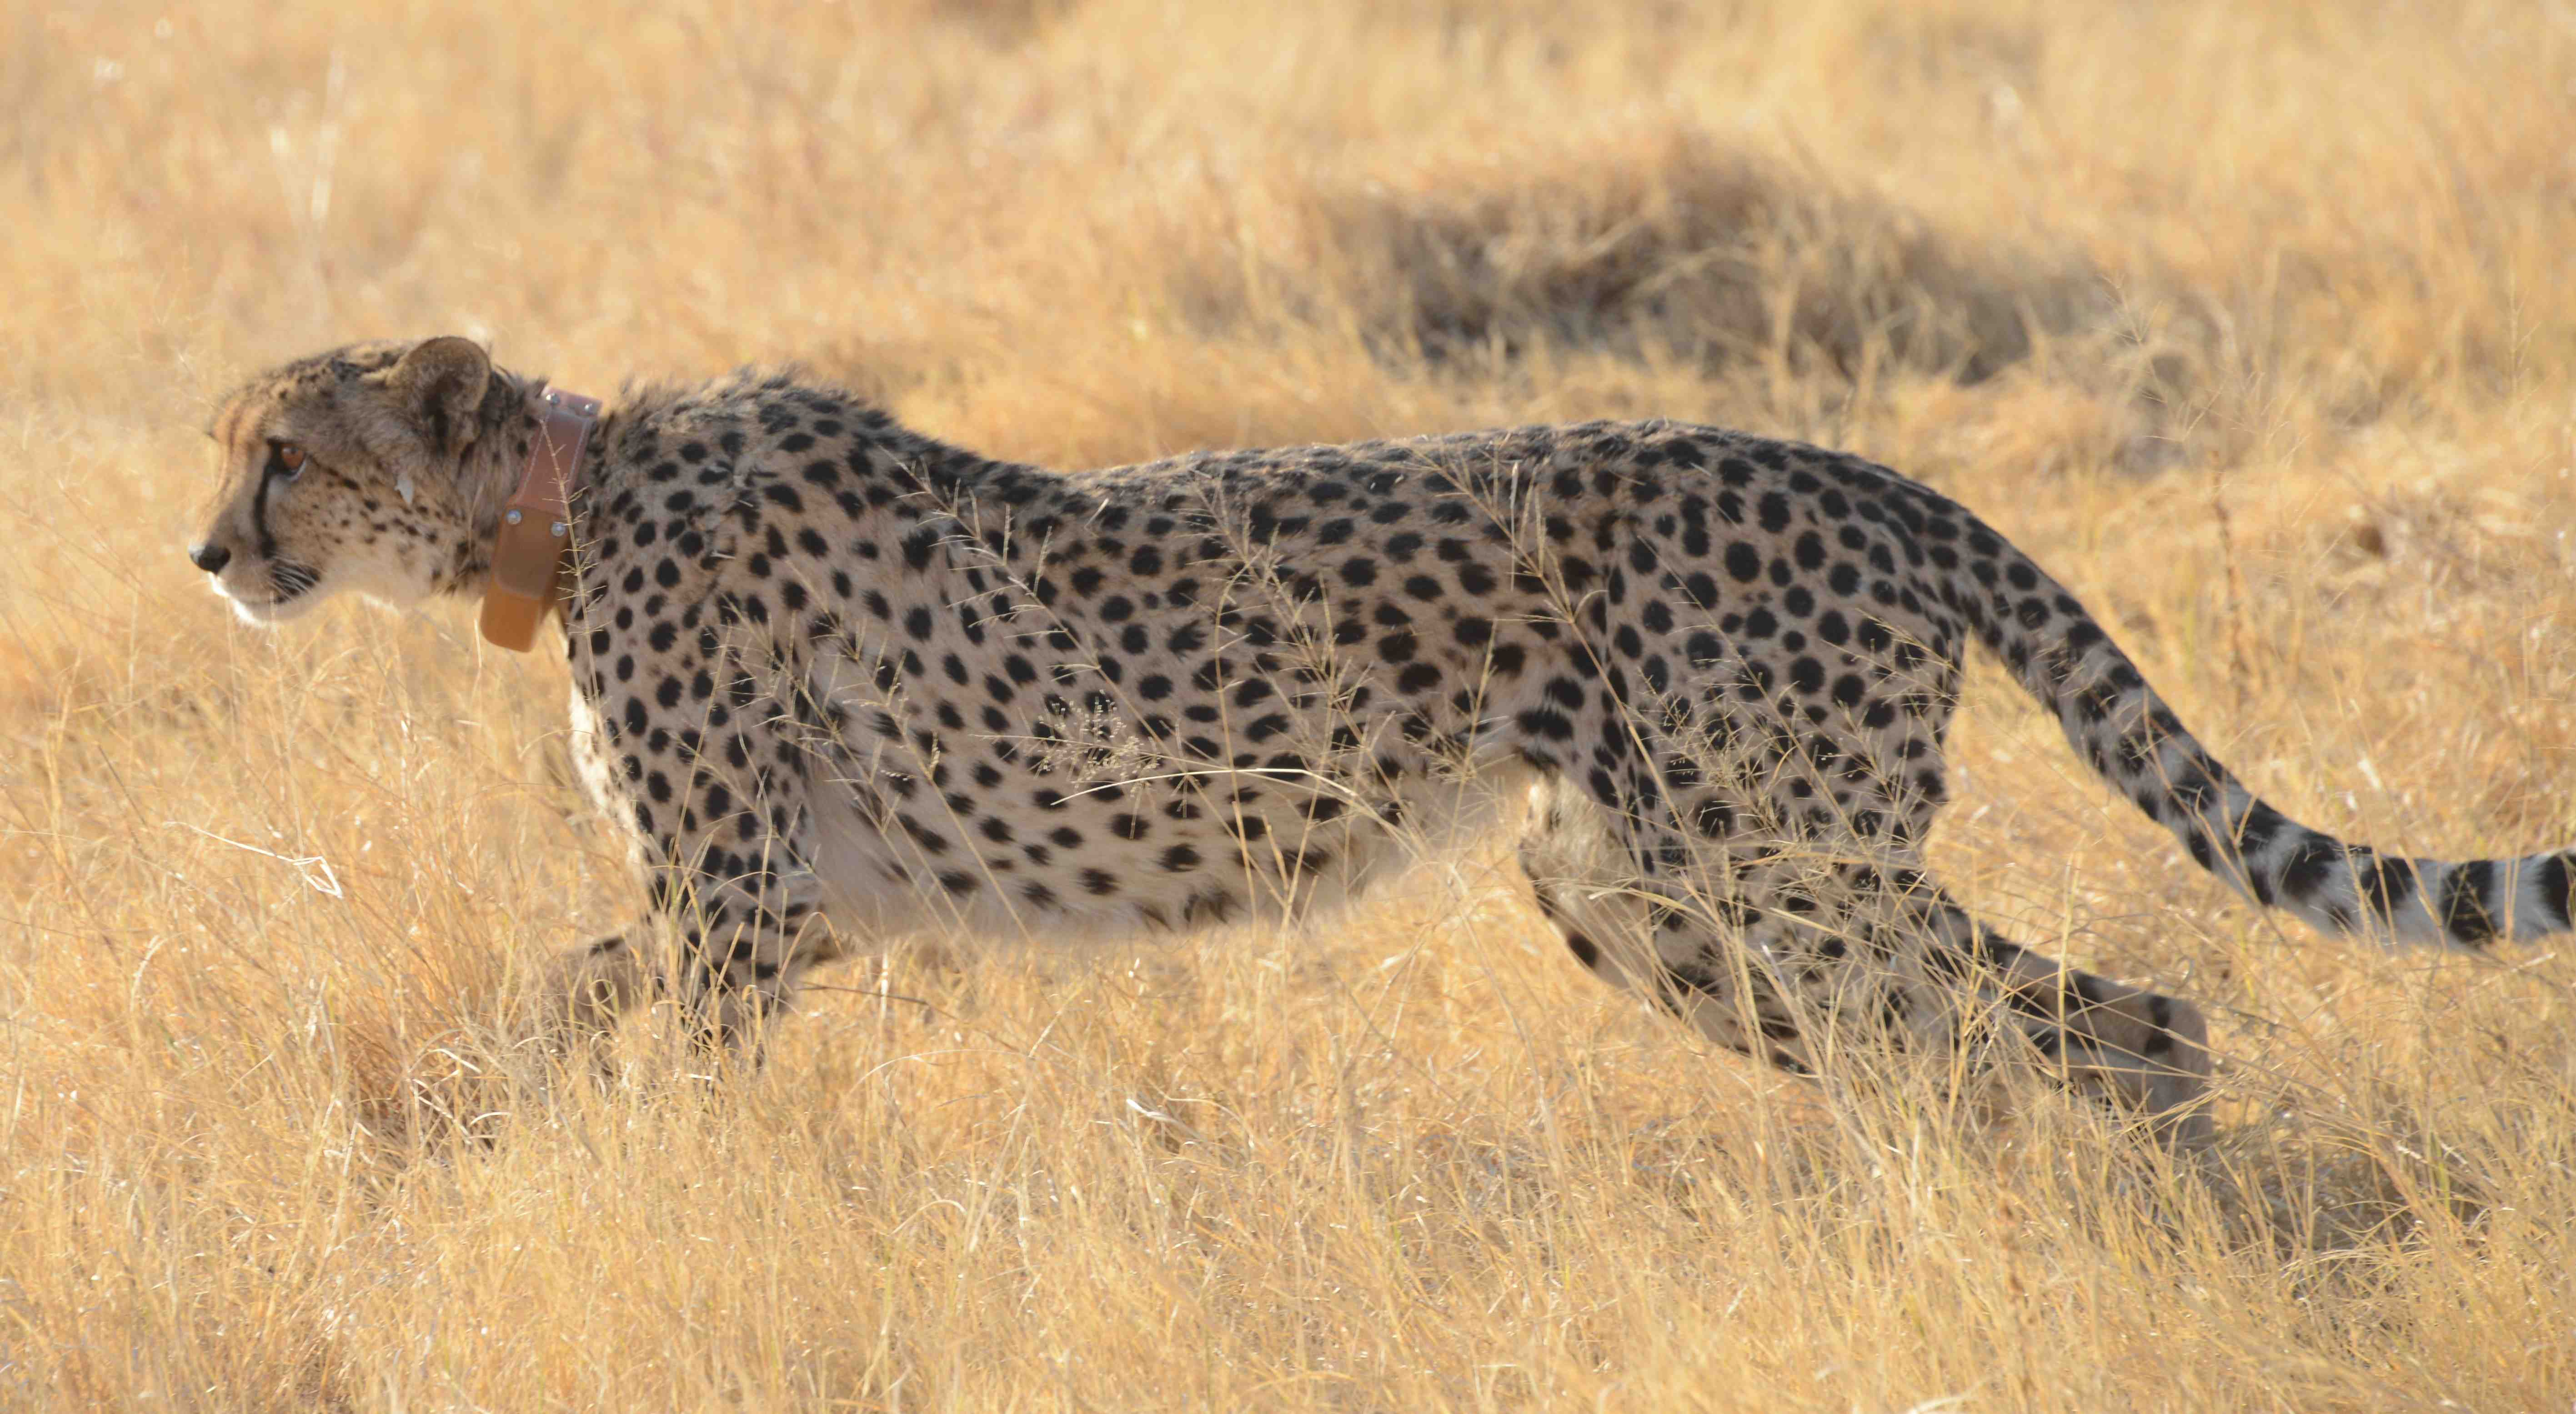cheetah: (146, 320, 552, 679)
